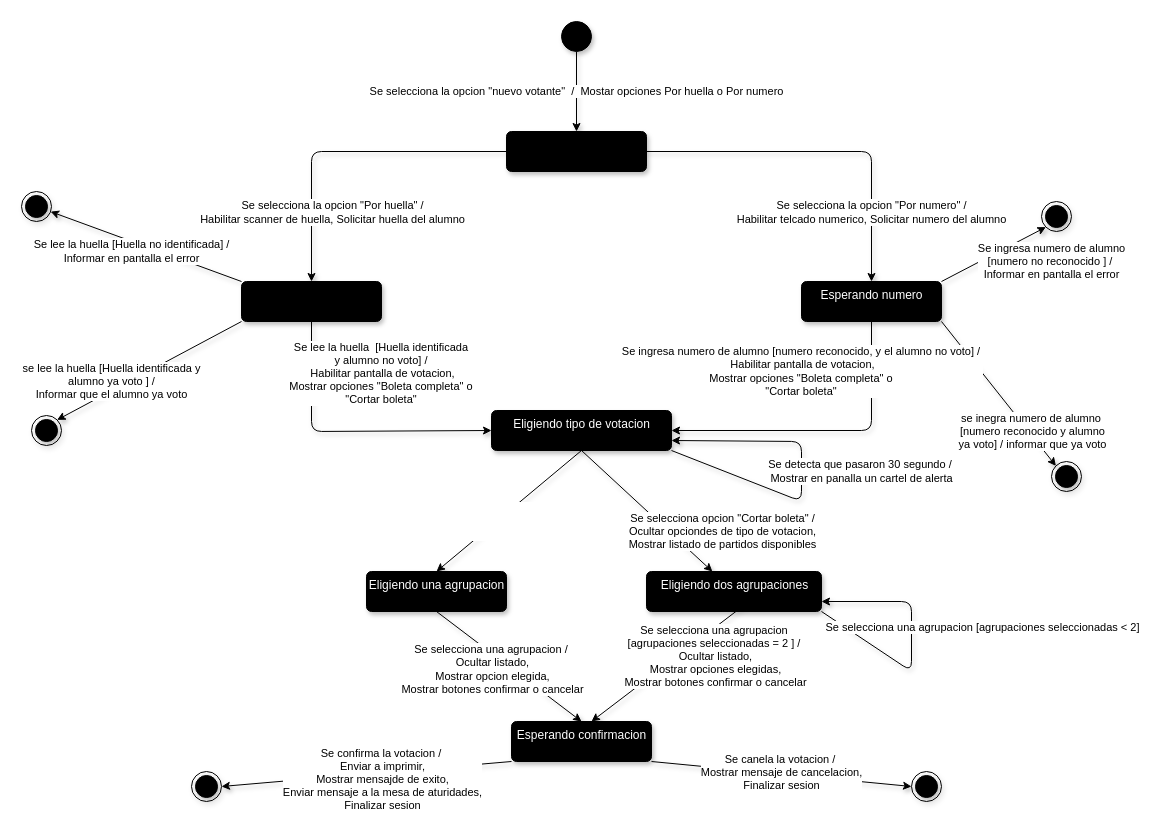
Some shapes in this 1156 by 830 pixel diagram are drawn without their labels. The centre of each missing label's shape, as x and y in pixels:
Esperando huella: point 312,302
Seleccionando opcion: point 577,152
